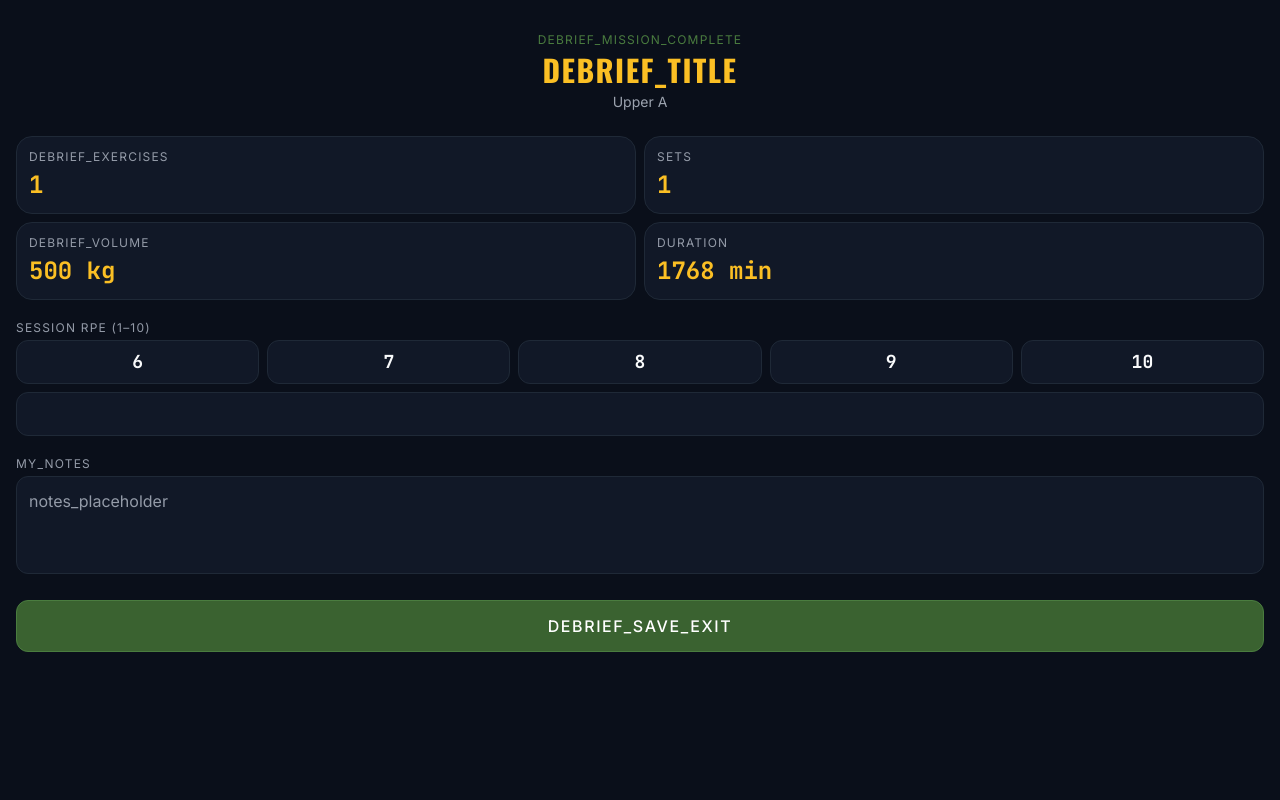
debrief page › keeps the draft and shows an error when saving fails
The image size is (1280, 800).
Click the button with test id "save-workout": {"x": 640, "y": 626} [16,600,1264,652]
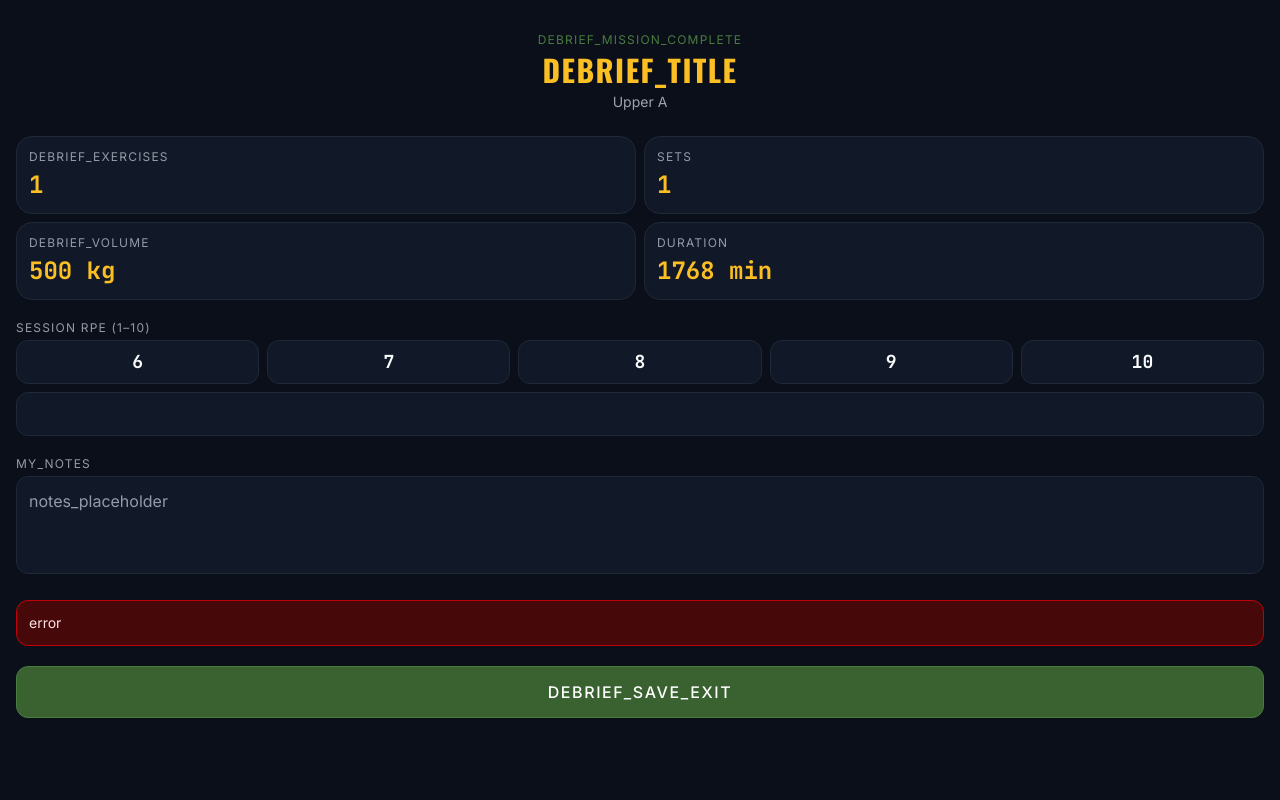
Check: the button with test id "save-workout" is enabled, box [16,666,1264,718]
Check: the message "error" is shown, box [16,600,1264,646]
